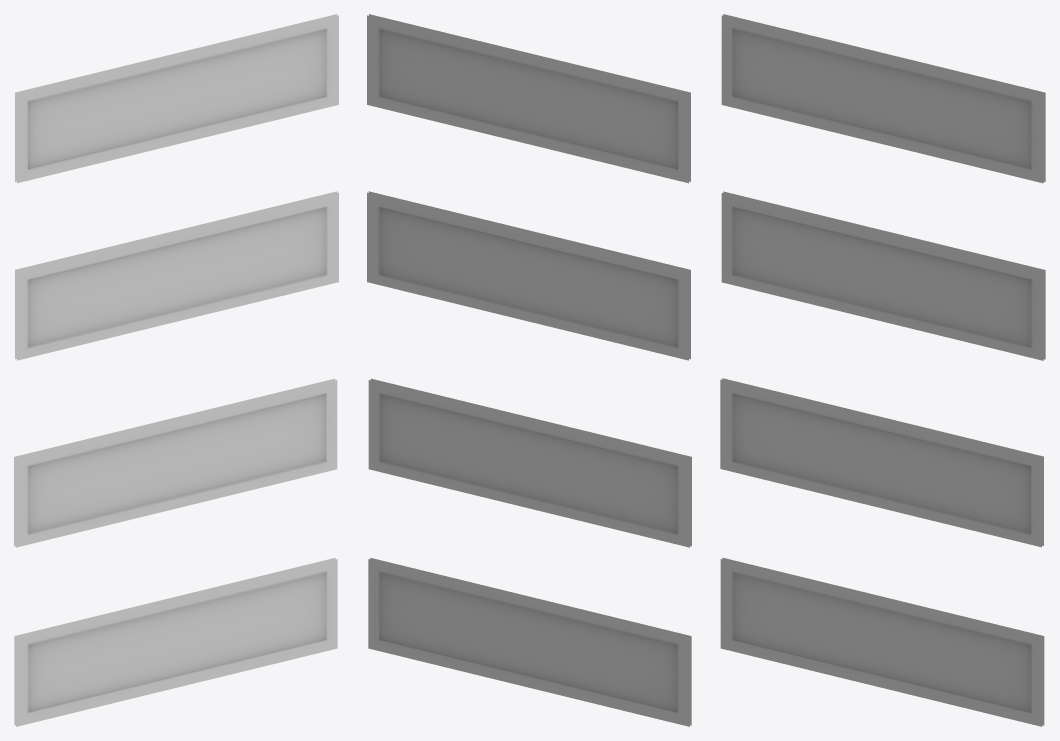
Rendered from Glass_Small_B.FBX.
3 renders of one model, left to right at view 1: azimuth 30°, elevation 25°; view 2: azimuth 150°, elevation 25°; view 3: azimuth 330°, elevation 25°, orthographic.
Parts seen in each view (by area): view 1: Glass_Small_B; view 2: Glass_Small_B; view 3: Glass_Small_B.
Boxes of the visible parts, x1=… form: Glass_Small_B: x1=14, y1=14, x2=338, y2=726; Glass_Small_B: x1=367, y1=14, x2=691, y2=726; Glass_Small_B: x1=720, y1=14, x2=1045, y2=726.
Size of the model in its own units: 102 by 191 by 1.
